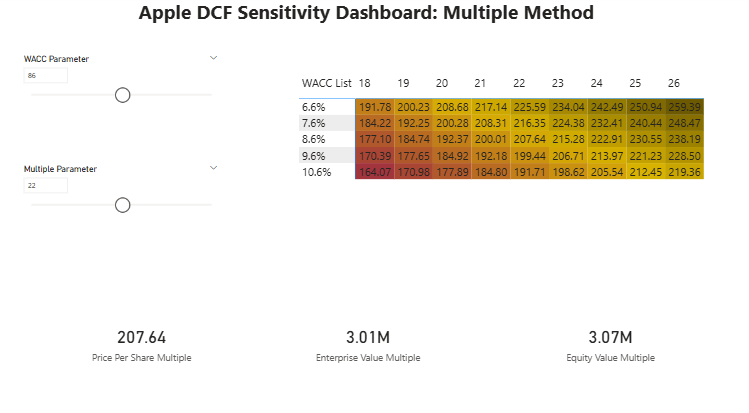

The page's visual inventory and layout, read from the dashboard file:
{"tool":"powerbi","page":{"name":"Multiple Method","canvas":[1280,720],"ordinal":1},"visuals":[{"type":"slicer","fields":{"Values":["Multiple Parameter.Multiple Parameter"]},"box":[30.2,278.8,351.1,176.4],"z":0},{"type":"pivotTable","fields":{"Rows":["WACC Table.WACC List"],"Columns":["Multiple Table.Multiple List"],"Values":["Summary_Sheet_Multiple.Sensitivity Price Multiple"]},"box":[500.6,129.3,719,194.9],"z":1},{"type":"card","fields":{"Values":["Summary_Sheet_Multiple.Price Per Share Multiple"]},"box":[100.8,467,280.5,233.5],"z":2},{"type":"card","fields":{"Values":["Summary_Sheet_Multiple.Enterprise Value Multiple"]},"box":[472,467,299,233.5],"z":3},{"type":"card","fields":{"Values":["Summary_Sheet_Multiple.Equity Value Multiple"]},"box":[883.6,467,290.6,233.5],"z":4},{"type":"textbox","box":[213.3,0,816.4,67.2],"z":5},{"type":"slicer","fields":{"Values":["WACC Parameter.WACC Parameter"]},"box":[30.2,94.1,351.1,156.2],"z":6}]}

Visuals, with their boxes in screenshot pixels (x1, y1, x2, y2), scaled from the page's 1280x720 canvas onto the 749x413 screenshot:
slicer - Multiple Parameter.Multiple Parameter: Rect(18, 160, 223, 261)
pivotTable - WACC Table.WACC List x Multiple Table.Multiple List: Rect(293, 74, 714, 186)
card - Summary_Sheet_Multiple.Price Per Share Multiple: Rect(59, 268, 223, 402)
card - Summary_Sheet_Multiple.Enterprise Value Multiple: Rect(276, 268, 451, 402)
card - Summary_Sheet_Multiple.Equity Value Multiple: Rect(517, 268, 687, 402)
textbox: Rect(125, 0, 603, 39)
slicer - WACC Parameter.WACC Parameter: Rect(18, 54, 223, 144)
